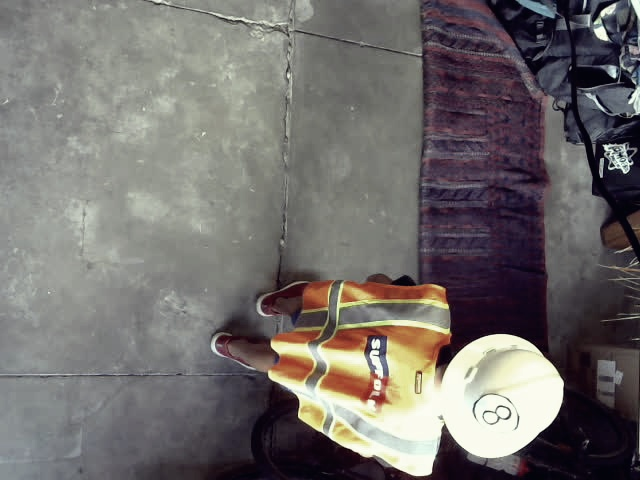eight: (472, 393, 520, 438)
